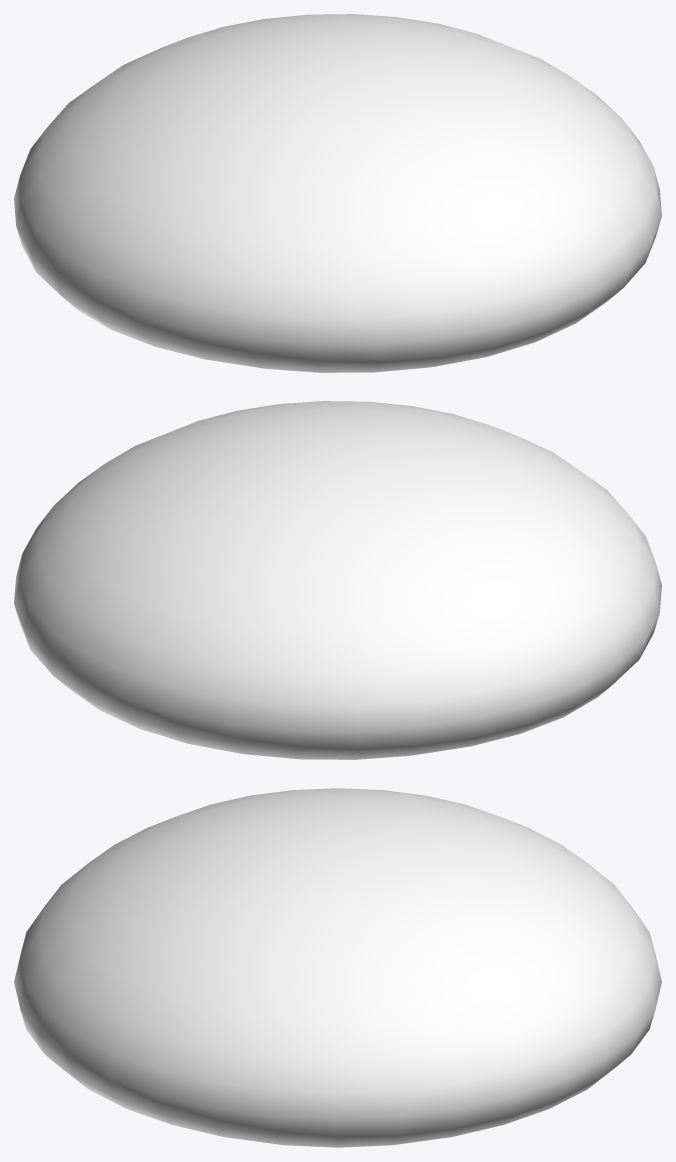
File: WhitePiece.FBX
3 renders of one model, top to bottom at view 1: azimuth 30°, elevation 25°; view 2: azimuth 150°, elevation 25°; view 3: azimuth 270°, elevation 25°, orthographic.
Visible parts, largest first — view 1: Obj3d66-644200-23-572; view 2: Obj3d66-644200-23-572; view 3: Obj3d66-644200-23-572.
Boxes of the visible parts, x1=… form: Obj3d66-644200-23-572: x1=14, y1=14, x2=661, y2=372; Obj3d66-644200-23-572: x1=14, y1=401, x2=661, y2=759; Obj3d66-644200-23-572: x1=14, y1=788, x2=661, y2=1147.
Size of the model in its own units: 2.2 by 0.802 by 2.2.
1 material, 1 textured.
